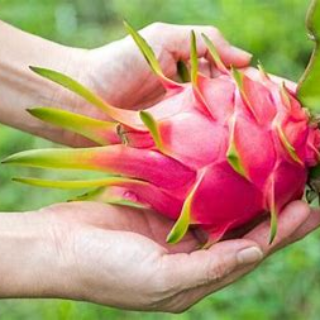thanh_long: (99, 66, 317, 235)
